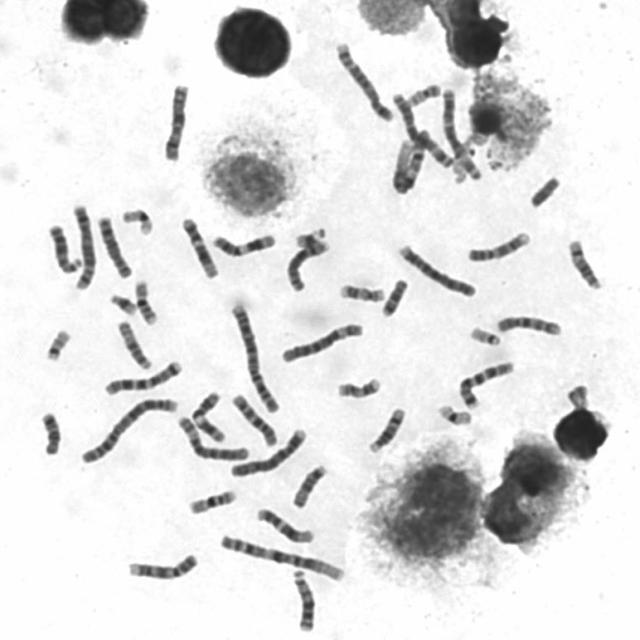A1: (218, 534, 346, 584), (392, 128, 429, 196)
A2: (80, 397, 179, 467), (228, 300, 280, 414)
A3: (390, 92, 454, 168), (442, 86, 482, 180)
B4: (398, 244, 477, 298), (230, 427, 309, 478)
B5: (332, 40, 394, 123), (70, 204, 98, 290)
C10: (230, 393, 278, 448), (496, 314, 563, 338)
C11: (190, 391, 226, 443), (213, 232, 276, 258)
C12: (180, 217, 220, 281), (254, 506, 315, 544)
C6: (280, 322, 366, 365), (175, 414, 249, 461)
C7: (103, 360, 182, 397), (457, 361, 514, 411)
C8: (285, 241, 330, 293), (98, 216, 132, 279)
C9: (467, 231, 531, 262), (127, 553, 200, 579)
D13: (288, 568, 318, 633), (46, 223, 84, 274)
D14: (565, 238, 603, 290), (367, 405, 406, 455)
D15: (115, 320, 153, 370), (290, 464, 329, 509)
E16: (188, 487, 240, 516), (134, 278, 158, 328)
E17: (335, 375, 381, 400), (338, 282, 385, 304)
E18: (41, 410, 63, 457), (381, 279, 407, 318)
F19: (121, 207, 155, 238), (438, 403, 473, 427)
F20: (408, 81, 442, 108), (565, 384, 592, 409)
G21: (108, 292, 138, 319), (295, 226, 328, 248)
G22: (46, 328, 73, 362), (466, 325, 501, 348)
X: (162, 81, 190, 162)
Y: (528, 176, 560, 208)
